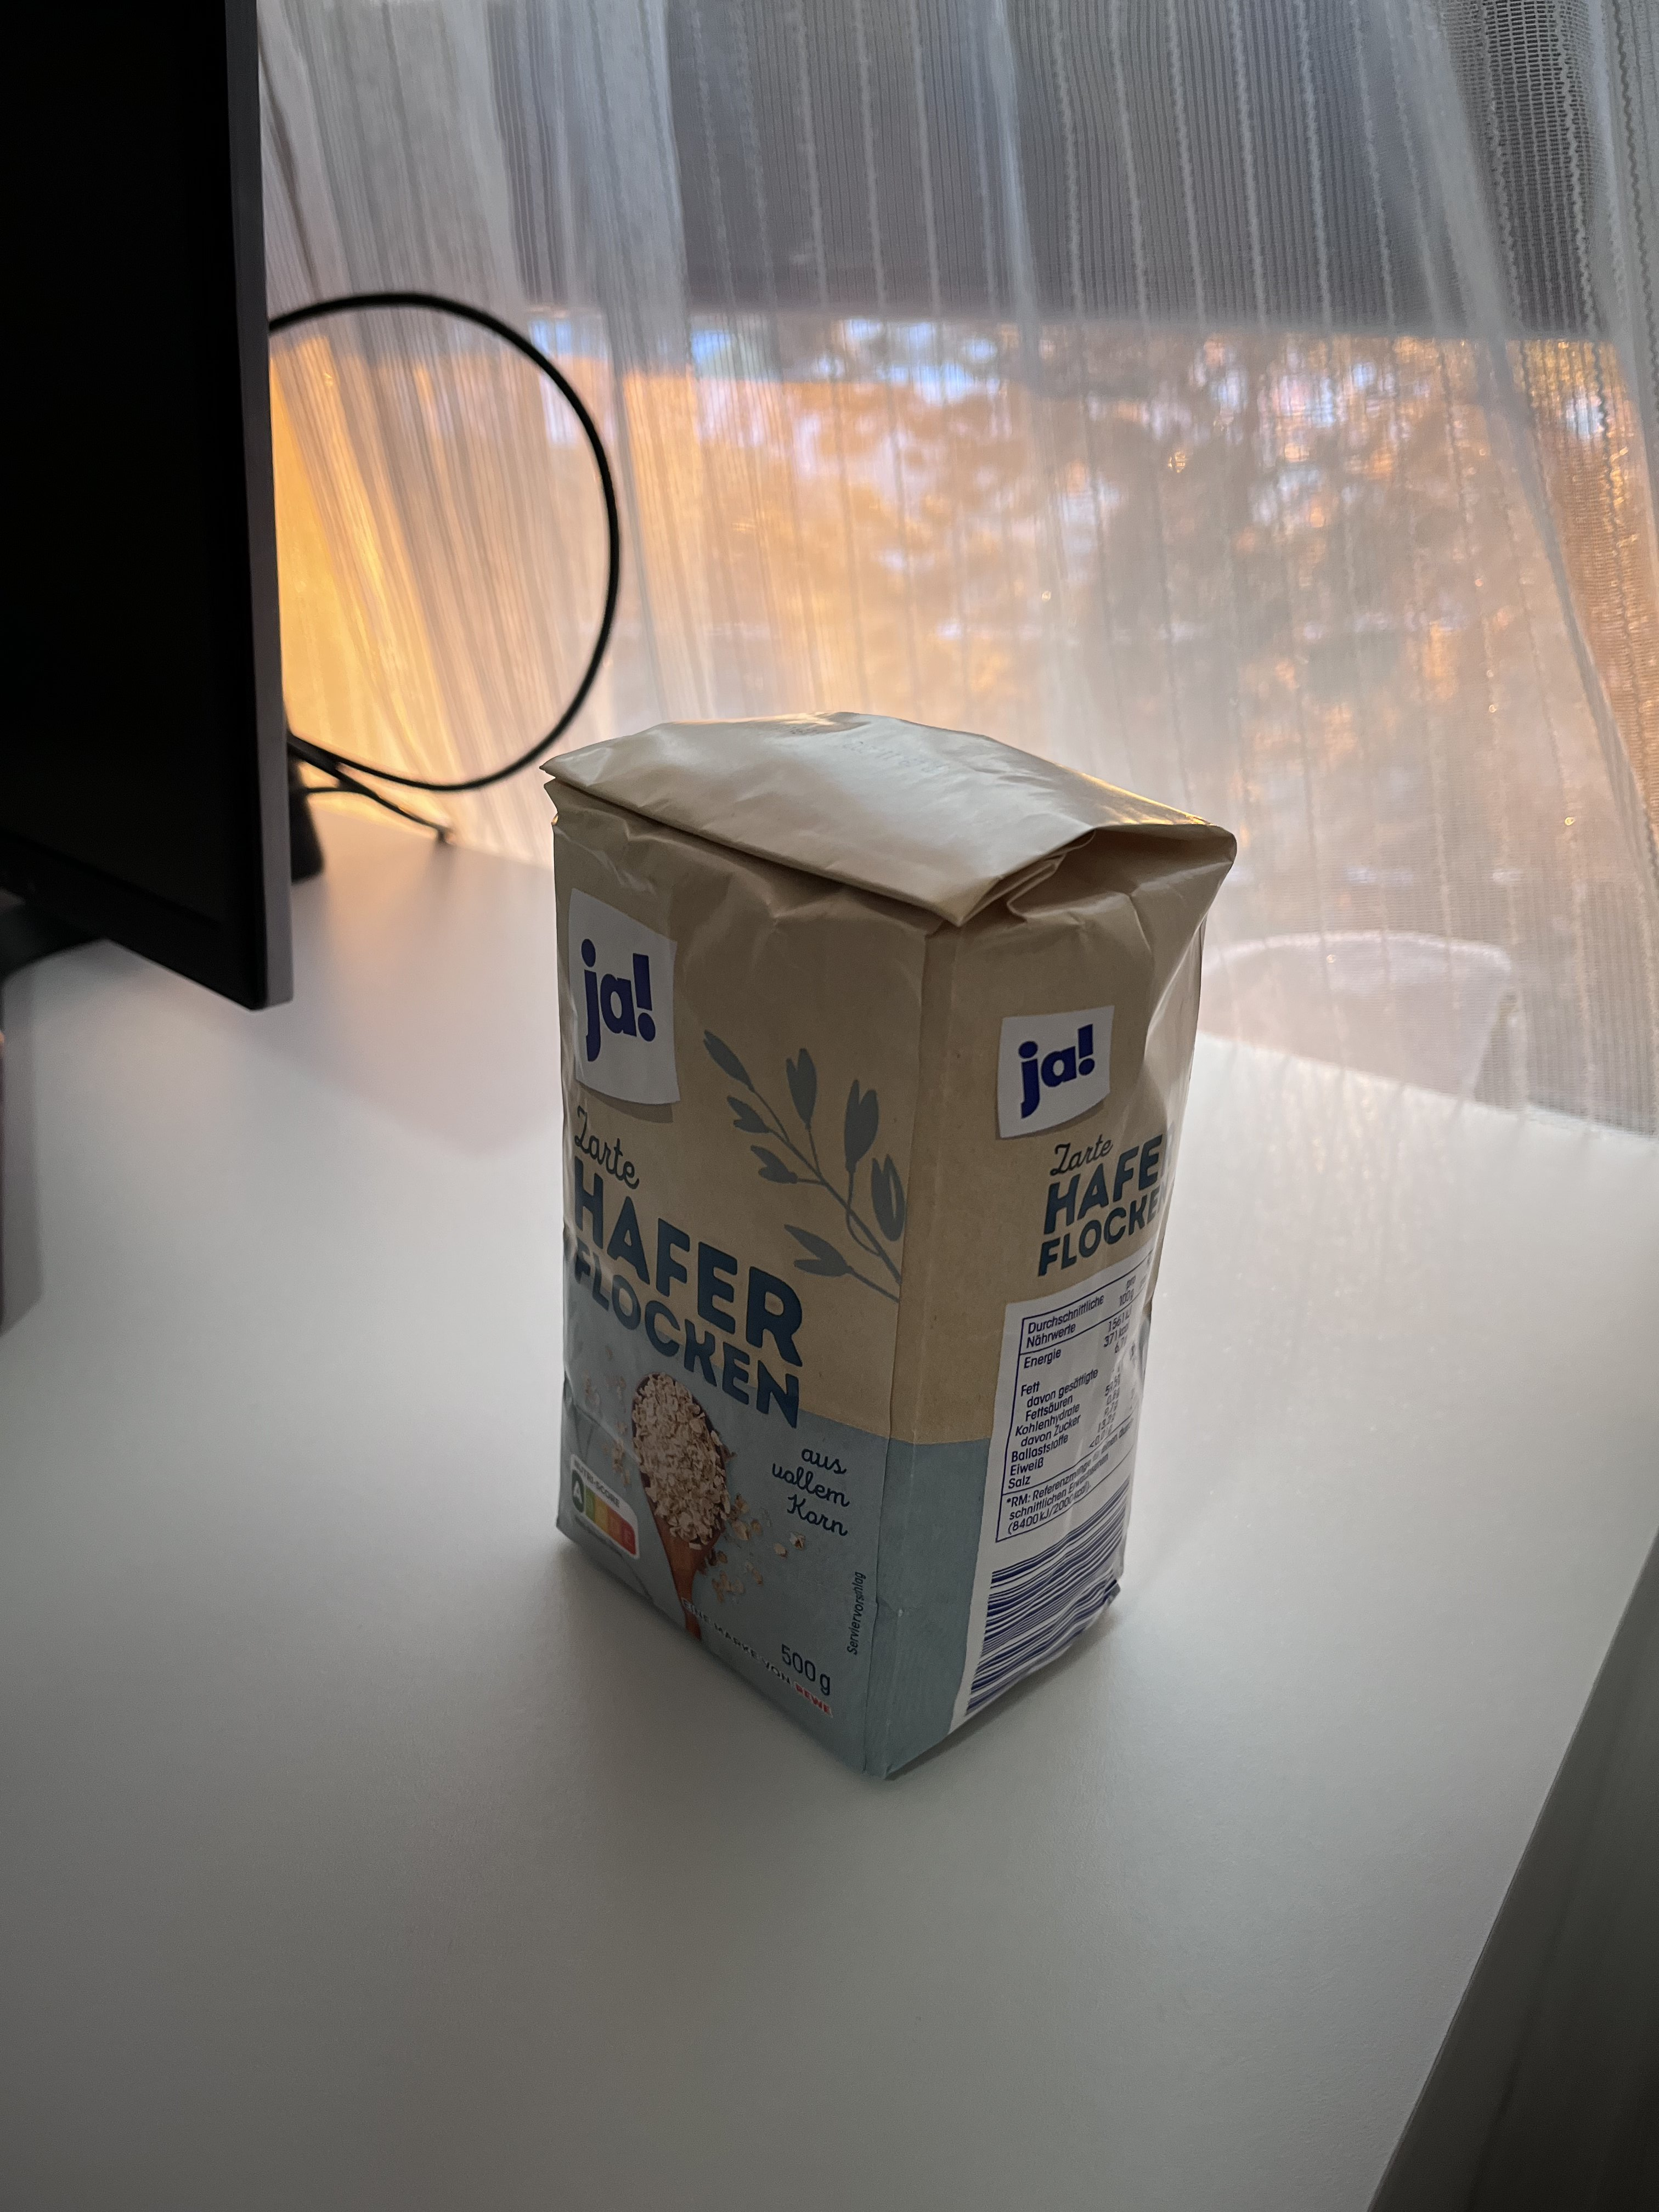haferflocken_ja: (544, 714, 1239, 1785)
